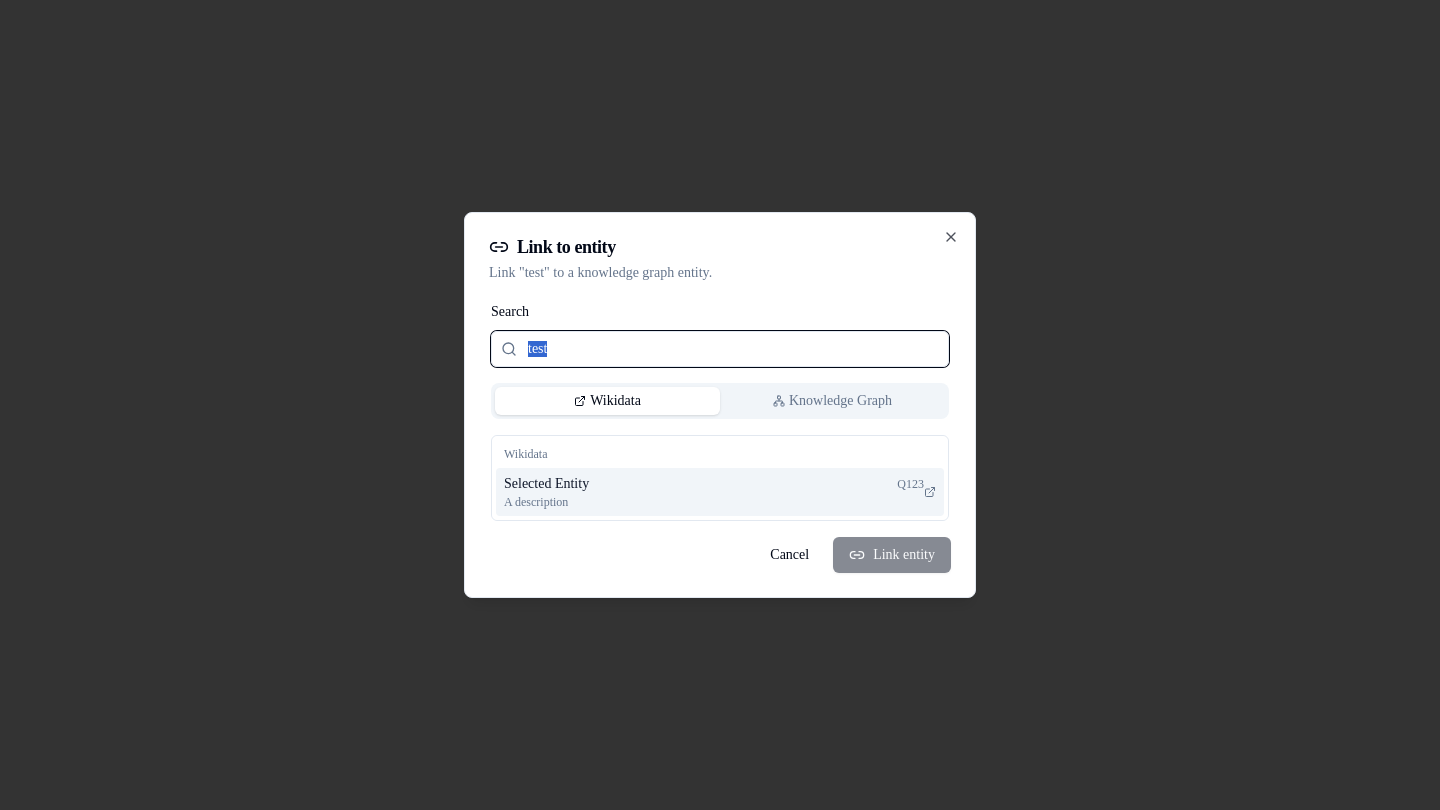
Test case: EntityLinkDialog › selection preview › shows selection preview when entity selected
Step 1. Click the text "Selected Entity" → {"x": 547, "y": 484}, box [504,476,589,491]
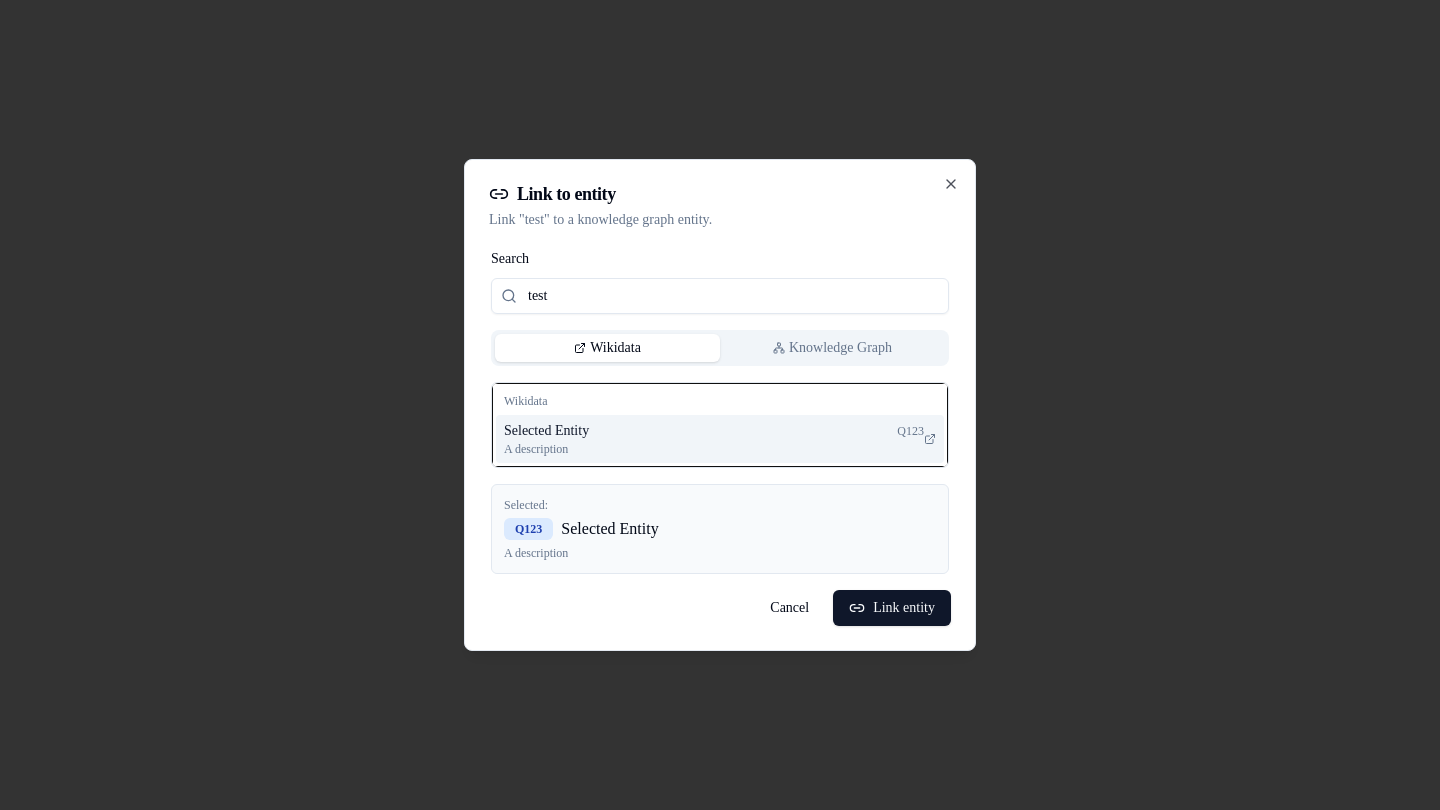
Result: the text "Selected:" is shown at [504,498,548,512]
